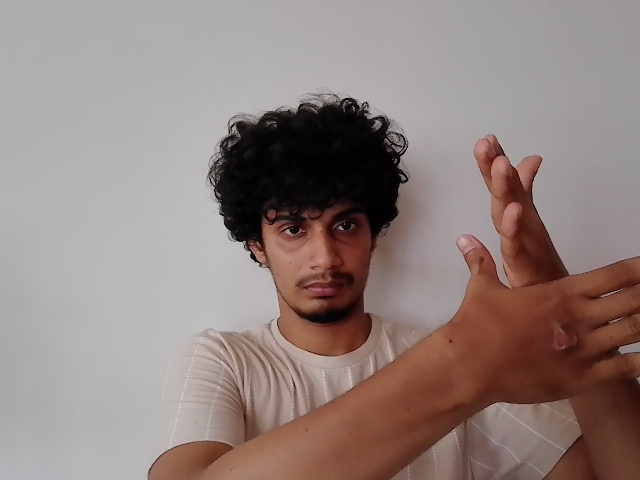busy: (457, 131, 640, 407)
